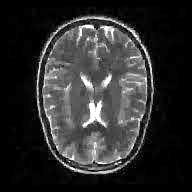Normal_Brain: (24, 3, 169, 192)
